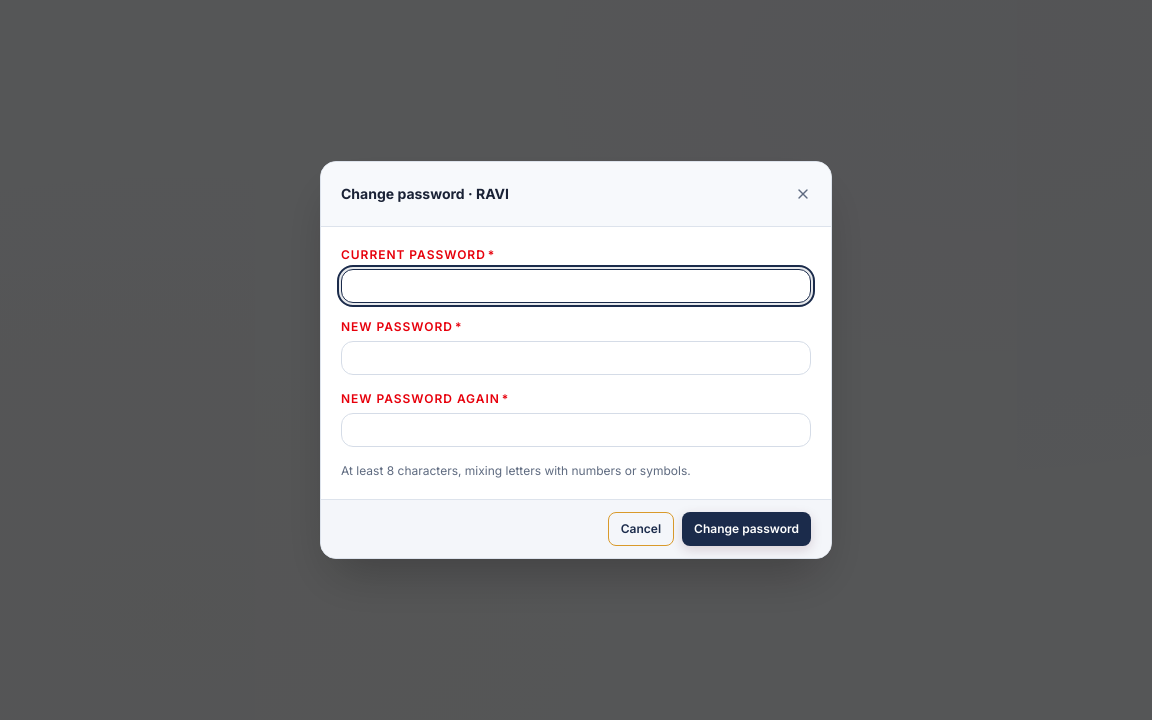
it: ChangePasswordDialog › shows mistakes under the fields and sends nothing
The width and height of the screenshot is (1152, 720).
Step 1. Type "ravi" into the password field labelled "Current password*" → (576, 286), box top-left (341, 269), bottom-right (811, 303)
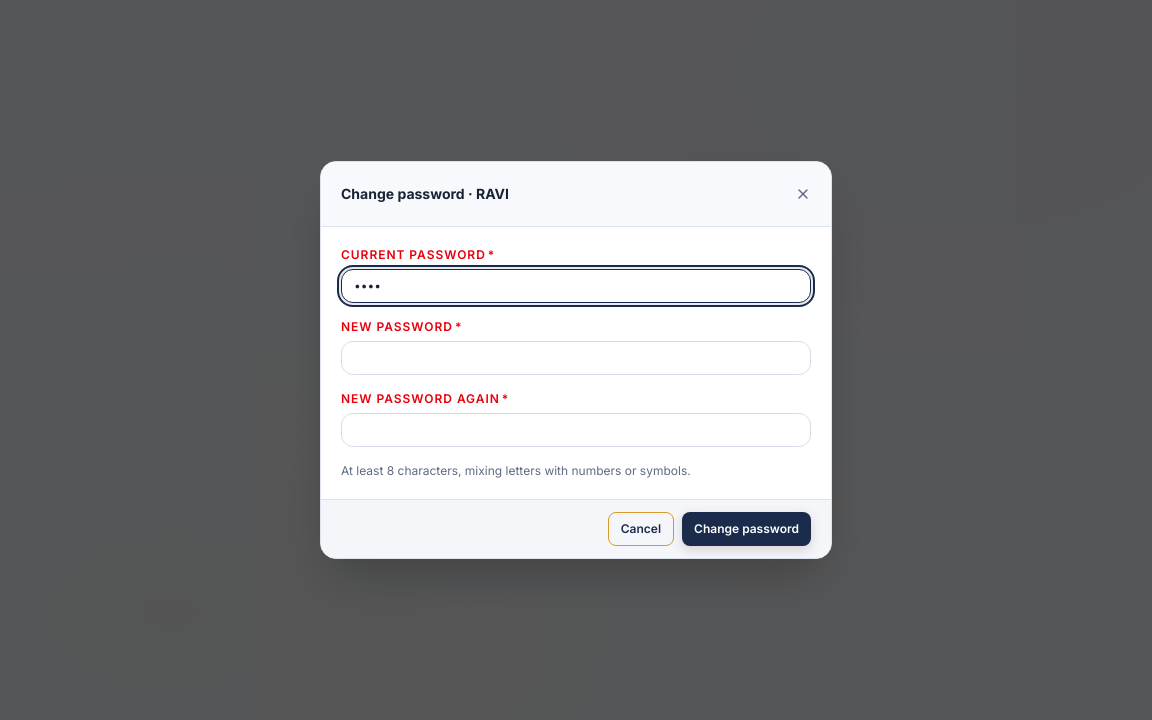
Step 2. Type "short" into the password field labelled "New password*" → (576, 358), box top-left (341, 341), bottom-right (811, 375)
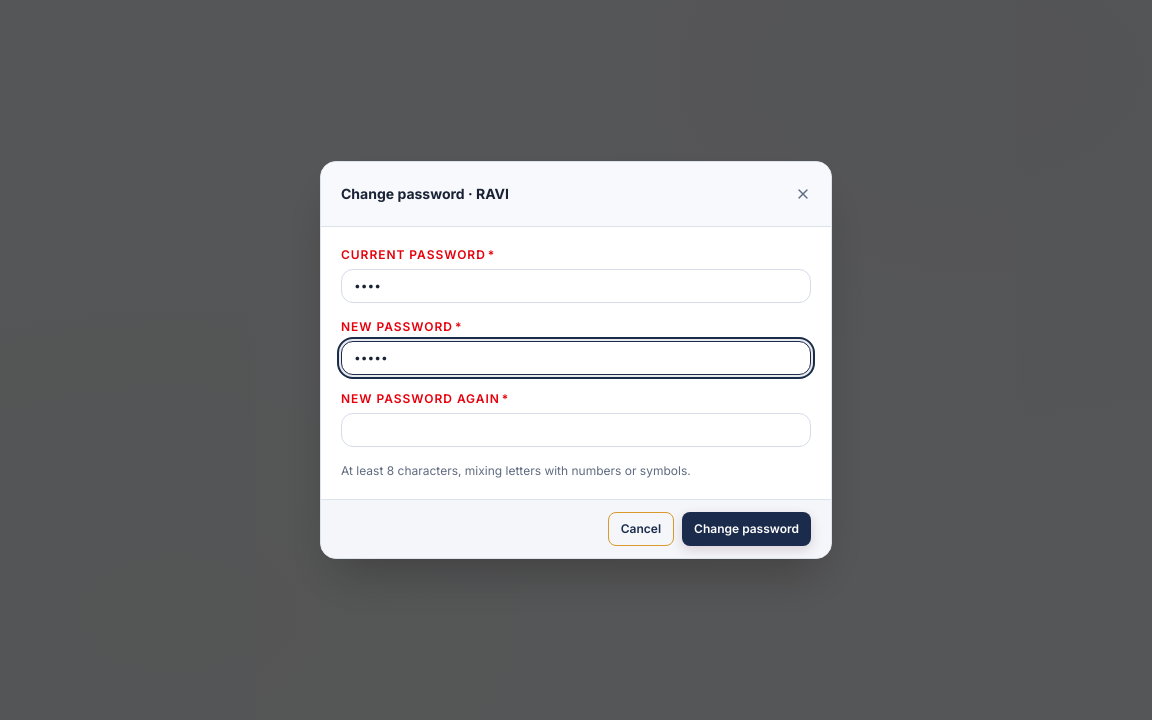
Step 3. Type "other" into the password field labelled "New password again*" → (576, 430), box top-left (341, 413), bottom-right (811, 447)
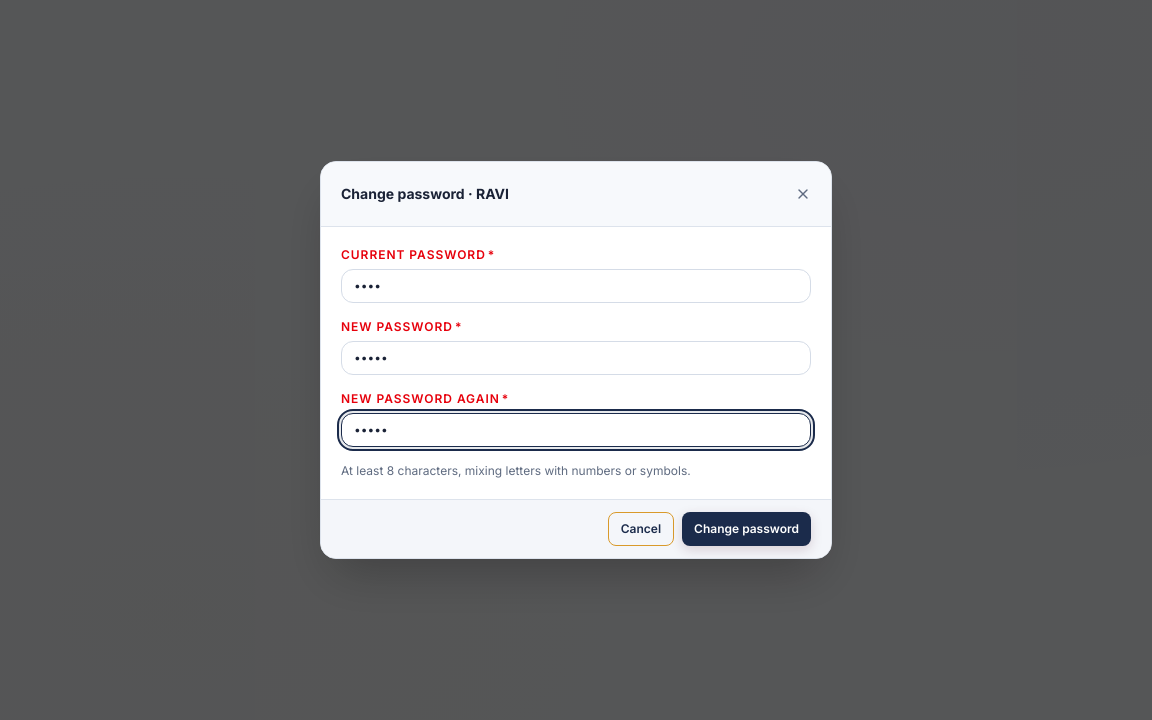
Step 4. Click the button "Change password" → (747, 529), box top-left (682, 512), bottom-right (811, 546)
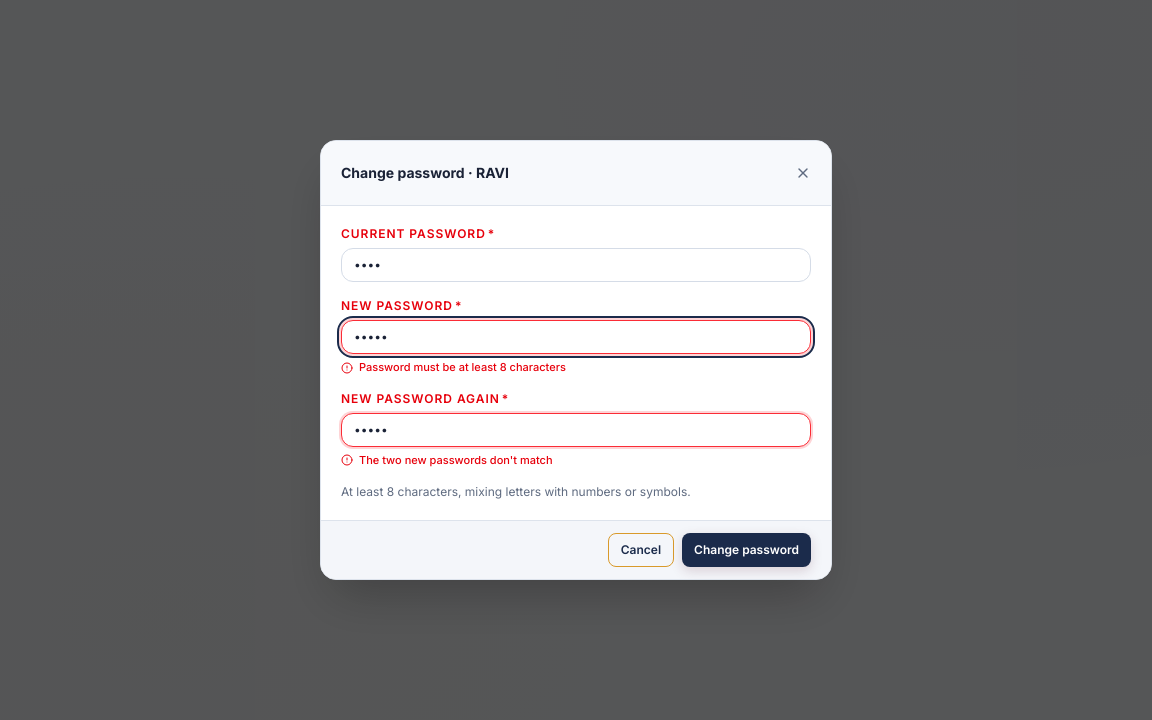
expect the text "Password must be at least 8 characters" is shown: met, box top-left (359, 360), bottom-right (566, 375)
